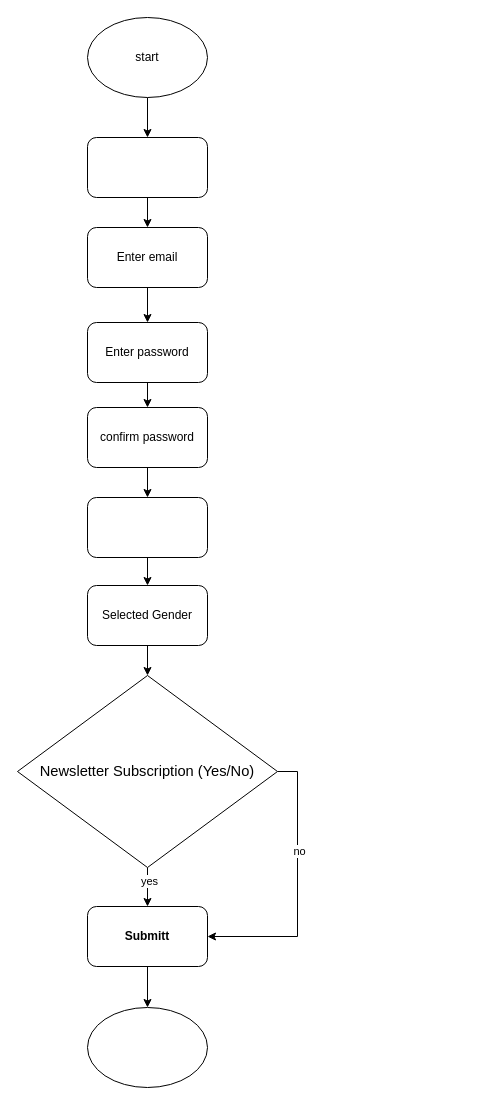
Some shapes in this 495 by 1105 pixel diagram are drawn without their labels. Each missing label, with the centre of its shape:
"End" belongs at (x=147, y=1047).
"Enter DOB" belongs at (x=147, y=527).
"Enter full name" belongs at (x=147, y=167).
